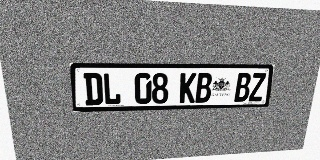0: (134, 73, 152, 104)
8: (152, 73, 169, 104)
B: (195, 73, 213, 103), (234, 73, 252, 102)
D: (83, 73, 103, 105)
K: (179, 73, 196, 103)
L: (102, 73, 121, 105)
Z: (249, 73, 266, 101)
